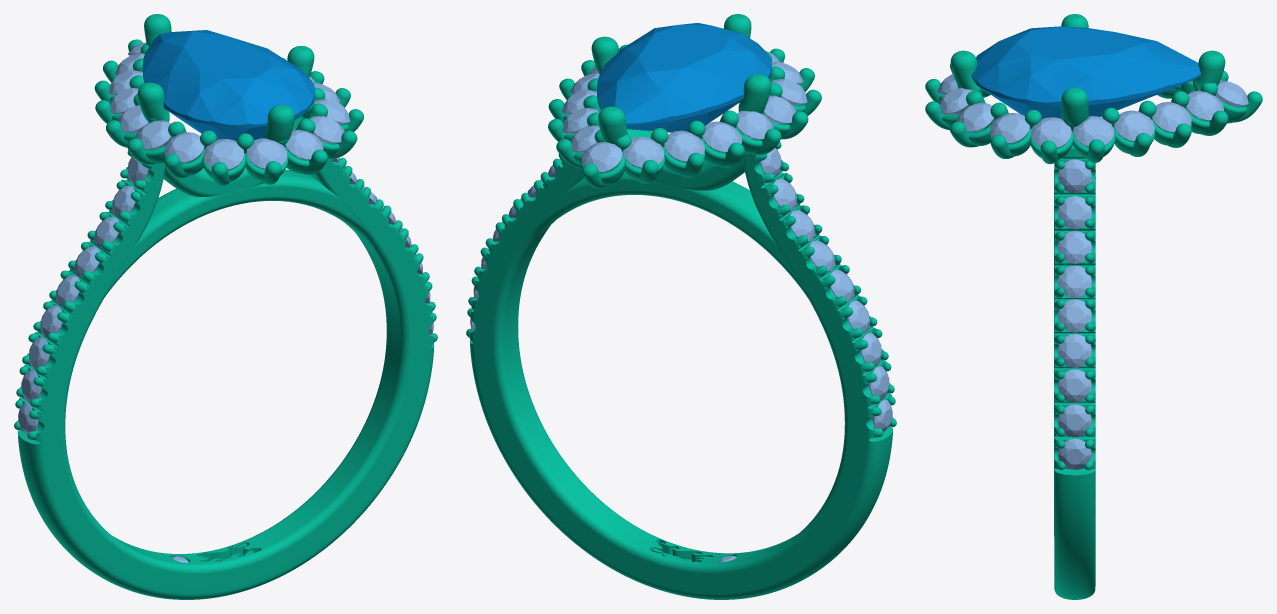
Rendered from ring5.glb.
3 renders of one model, left to right at view 1: azimuth 30°, elevation 25°; view 2: azimuth 150°, elevation 25°; view 3: azimuth 270°, elevation 25°, orthographic.
Visible parts, largest first — view 1: gold.3dm, Diamond_Pear, Diamond_Round (×7); view 2: gold.3dm, Diamond_Pear, Diamond_Round (×7); view 3: gold.3dm, Diamond_Round (×18), Diamond_Pear.
Boxes of the visible parts, x1,y1,x2,y2 form: gold.3dm: (14,14,437,599); Diamond_Pear: (142,30,314,141); Diamond_Round (×7): (117,105,344,169); gold.3dm: (466,14,896,599); Diamond_Pear: (597,23,771,132); Diamond_Round (×7): (581,79,807,172); gold.3dm: (925,14,1262,599); Diamond_Round (×18): (939,81,1248,469); Diamond_Pear: (971,26,1201,118).
Size of the model in its own units: 2.28 by 2.85 by 1.63.
